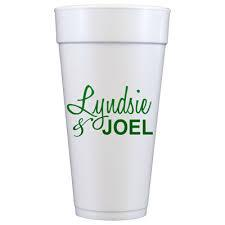Plastic cup: (55, 2, 178, 225)
